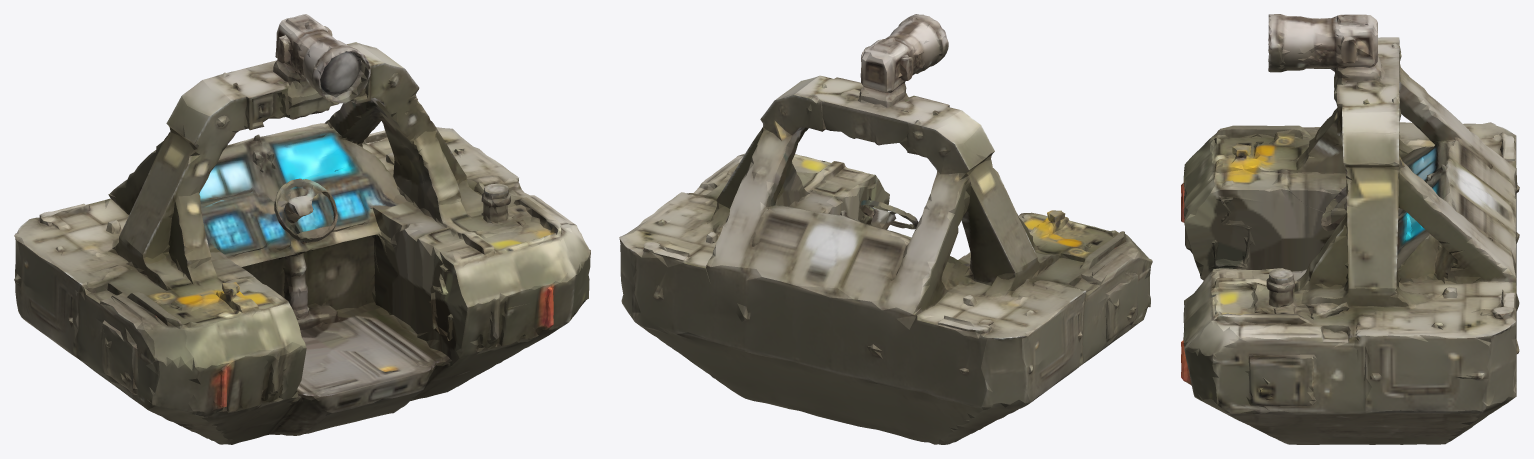
Rendered from titan_cockpit.glb.
3 views of the same model, side by side, from view 1: azimuth 30°, elevation 25°; view 2: azimuth 150°, elevation 25°; view 3: azimuth 270°, elevation 25° (orthographic). The views are drawn at different scales.
Visible parts, largest first — view 1: titan_cockpit; view 2: titan_cockpit; view 3: titan_cockpit.
Part boxes in pixels (left/top/right/bottom): titan_cockpit: left=14, top=14, right=590, bottom=444; titan_cockpit: left=619, top=14, right=1152, bottom=444; titan_cockpit: left=1181, top=14, right=1519, bottom=444.
Bounding box in the file's own units: 1.89 × 1.51 × 1.25.
1 material, 1 textured.
